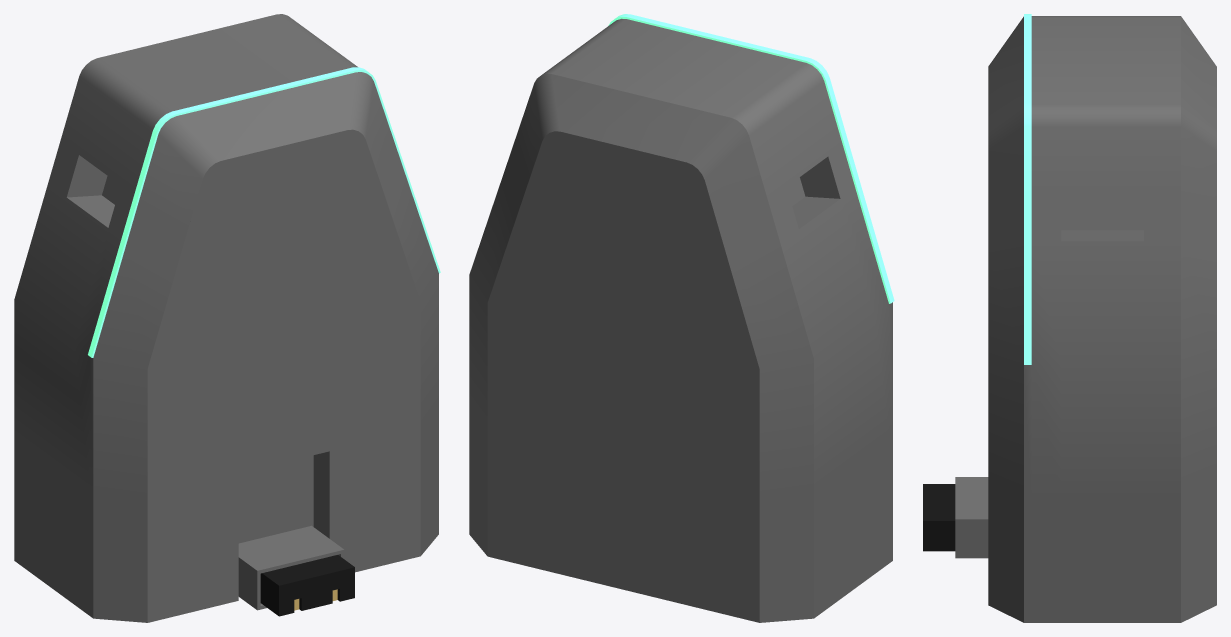
Rendered from charger-underlift.glb.
3 renders of one model, left to right at view 1: azimuth 30°, elevation 25°; view 2: azimuth 150°, elevation 25°; view 3: azimuth 270°, elevation 25°, orthographic.
Visible parts, largest first — view 1: charger-underlift__桩001, charger-underlift__塑料001, charger-underlift__指示灯001; view 2: charger-underlift__桩001, charger-underlift__指示灯001; view 3: charger-underlift__桩001, charger-underlift__指示灯001, charger-underlift__塑料001.
Boxes of the visible parts, bbox=[...] form: charger-underlift__桩001: bbox=[14, 14, 438, 622]; charger-underlift__塑料001: bbox=[260, 555, 354, 616]; charger-underlift__指示灯001: bbox=[88, 67, 440, 357]; charger-underlift__桩001: bbox=[469, 18, 892, 622]; charger-underlift__指示灯001: bbox=[608, 14, 894, 303]; charger-underlift__桩001: bbox=[955, 16, 1216, 622]; charger-underlift__指示灯001: bbox=[1024, 14, 1031, 364]; charger-underlift__塑料001: bbox=[923, 484, 955, 551].
Size of the model in its own units: 0.7689 by 1.02 by 0.565.
